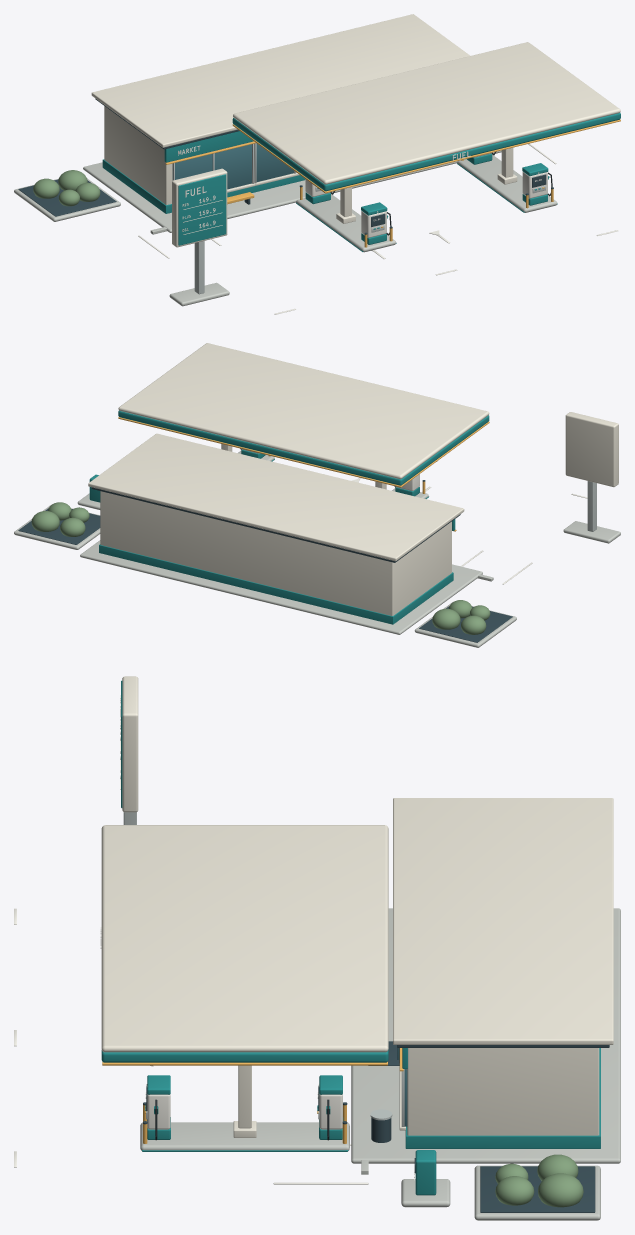
File: fuel-station.glb
The picture shows the model from 3 angles, top to bottom: view 1: azimuth 30°, elevation 25°; view 2: azimuth 150°, elevation 25°; view 3: azimuth 270°, elevation 25°; orthographic projection. The views are drawn at different scales.
Parts seen in each view (by area): view 1: Canopy cream cap, Shop roof cap, Shop cream walls, Shop raised apron, Pylon teal face, Canopy teal fascia, Glazed storefront -6.65, Raised pump island -5, Raised pump island 5, Shop teal fascia, Shop teal plinth, Planting bed -13 (+7 smaller); view 2: Canopy cream cap, Shop roof cap, Shop cream walls, Shop raised apron, Pylon cream surround, Shop teal plinth, Canopy teal fascia, Shrub (×2), Canopy amber ribbon, Planting bed -13, Planting bed 13, Roof shadow reveal (+4 smaller); view 3: Canopy cream cap, Shop roof cap, Shop cream walls, Shop raised apron, Raised pump island 5, Canopy teal fascia, Shrub (×3), Shop teal plinth, Planting bed 13, Pylon cream surround, Landscape curb 13, Canopy amber ribbon (+5 smaller).
Boxes of the visible parts, left/top/right/bottom form: Canopy cream cap: left=233, top=42, right=620, bottom=184; Shop roof cap: left=91, top=14, right=470, bottom=147; Shop cream walls: left=104, top=106, right=254, bottom=204; Shop raised apron: left=83, top=150, right=501, bottom=232; Pylon teal face: left=178, top=174, right=226, bottom=245; Canopy teal fascia: left=232, top=113, right=620, bottom=191; Glazed storefront -6.65: left=172, top=144, right=251, bottom=189; Raised pump island -5: left=296, top=194, right=396, bottom=252; Raised pump island 5: left=457, top=154, right=557, bottom=212; Shop teal fascia: left=164, top=131, right=253, bottom=162; Shop teal plinth: left=102, top=159, right=305, bottom=213; Planting bed -13: left=18, top=179, right=116, bottom=216; Canopy cream cap: left=118, top=343, right=489, bottom=479; Shop roof cap: left=88, top=433, right=464, bottom=561; Shop cream walls: left=100, top=491, right=451, bottom=615; Shop raised apron: left=80, top=540, right=482, bottom=634; Pylon cream surround: left=565, top=412, right=618, bottom=487; Shop teal plinth: left=99, top=544, right=453, bottom=624; Canopy teal fascia: left=118, top=410, right=489, bottom=485; Shrub (×2): left=31, top=511, right=460, bottom=629; Canopy amber ribbon: left=118, top=417, right=489, bottom=487; Planting bed -13: left=419, top=606, right=512, bottom=642; Planting bed 13: left=18, top=508, right=100, bottom=544; Roof shadow reveal: left=91, top=487, right=460, bottom=562; Canopy cream cap: left=101, top=825, right=388, bottom=1052; Shop roof cap: left=393, top=798, right=613, bottom=1044; Shop cream walls: left=407, top=1048, right=599, bottom=1135; Shop raised apron: left=351, top=908, right=620, bottom=1163; Raised pump island 5: left=140, top=1122, right=349, bottom=1150; Canopy teal fascia: left=101, top=1049, right=388, bottom=1062; Shrub (×3): left=495, top=1154, right=583, bottom=1207; Shop teal plinth: left=405, top=1048, right=600, bottom=1148; Planting bed 13: left=480, top=1166, right=595, bottom=1212; Pylon cream surround: left=122, top=676, right=138, bottom=812; Landscape curb 13: left=474, top=1165, right=600, bottom=1220; Canopy amber ribbon: left=102, top=1061, right=387, bottom=1065.
Size of the model in its own units: 30.2 by 7.2 by 21.16.
